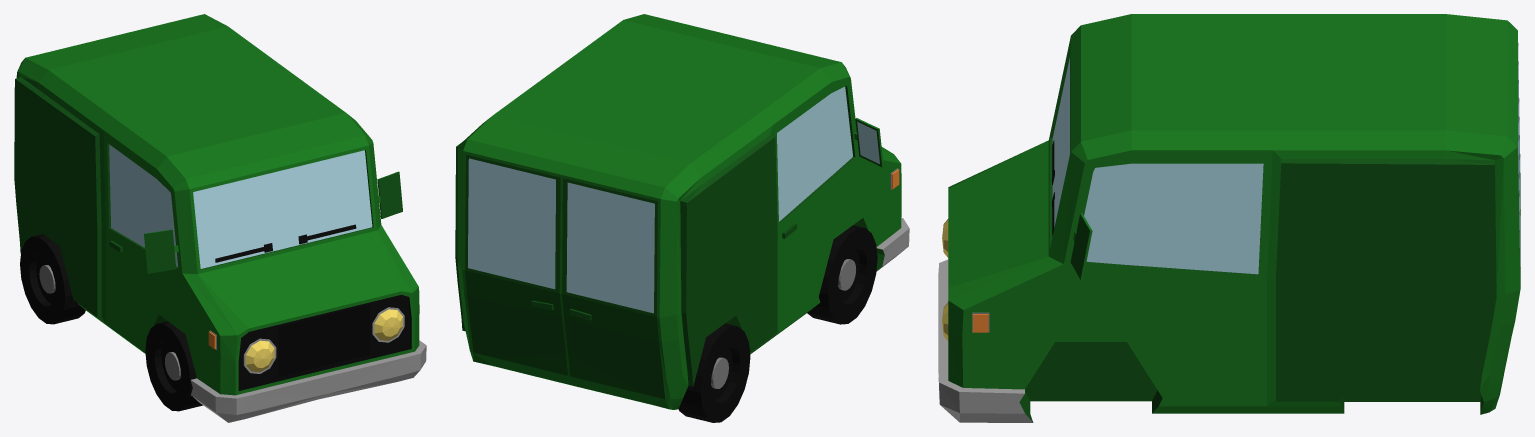
Rendered from Van_Model.FBX.
3 renders of one model, left to right at view 1: azimuth 30°, elevation 25°; view 2: azimuth 150°, elevation 25°; view 3: azimuth 270°, elevation 25°, orthographic. The views are drawn at different scales.
Visible parts, largest first — view 1: Van_model, Achterwiel_R, Voorwiel_R; view 2: Van_model, Achterwiel_R, Voorwiel_R; view 3: Van_model.
Boxes of the visible parts, bbox=[...] form: Van_model: bbox=[14, 14, 426, 422]; Achterwiel_R: bbox=[20, 234, 85, 324]; Voorwiel_R: bbox=[145, 321, 202, 411]; Van_model: bbox=[455, 14, 909, 409]; Achterwiel_R: bbox=[678, 323, 750, 422]; Voorwiel_R: bbox=[807, 225, 877, 324]; Van_model: bbox=[938, 14, 1520, 422].
Bounding box in the file's own units: 3905 × 5803 × 3466.
